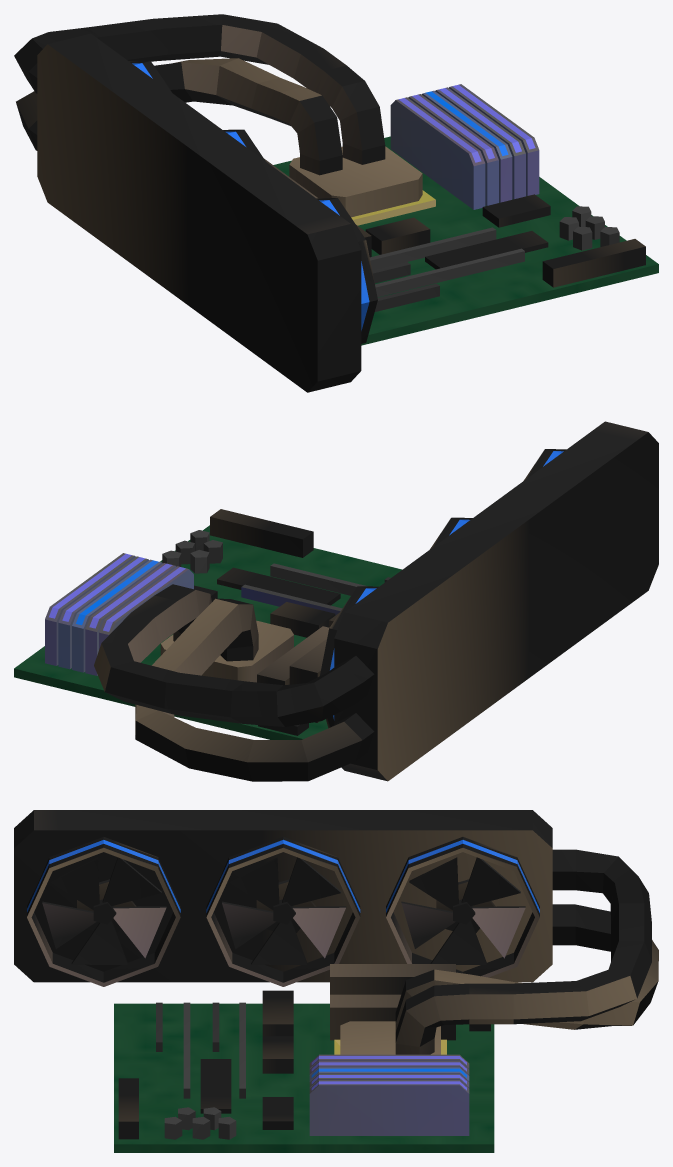
Rendered from PowerLvl4.fbx.
3 views of the same model, one above another, from view 1: azimuth 30°, elevation 25°; view 2: azimuth 150°, elevation 25°; view 3: azimuth 270°, elevation 25° (orthographic). The views are drawn at different scales.
Visible parts, largest first — view 1: power_lvl4; view 2: power_lvl4; view 3: power_lvl4.
Part boxes in pixels (x1=…): power_lvl4: x1=14, y1=14, x2=658, y2=392; power_lvl4: x1=14, y1=421, x2=658, y2=781; power_lvl4: x1=14, y1=810, x2=658, y2=1152.
Size of the model in its own units: 0.5825 by 0.2337 by 0.8617.
